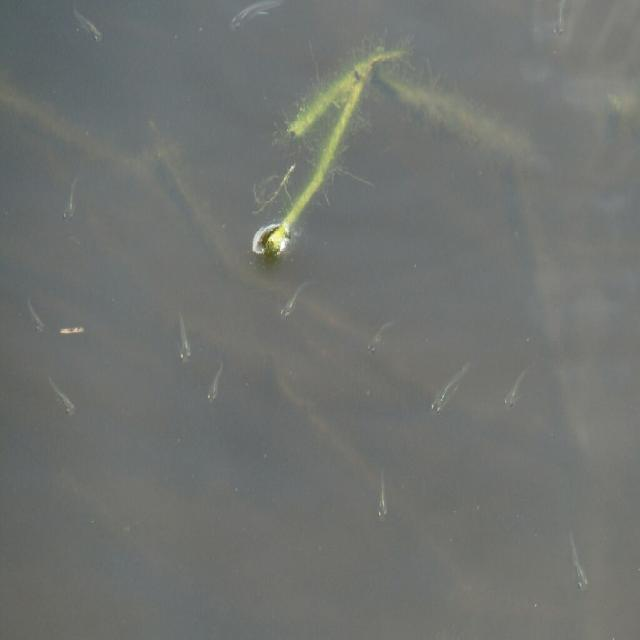Sivrisinek Baligi: (64, 0, 109, 65), (431, 363, 475, 415), (45, 364, 78, 419), (276, 277, 312, 324), (568, 529, 592, 596), (366, 316, 396, 362), (61, 159, 81, 225), (174, 308, 194, 364), (501, 367, 527, 410), (20, 299, 46, 336), (206, 353, 222, 413), (374, 466, 390, 520)
